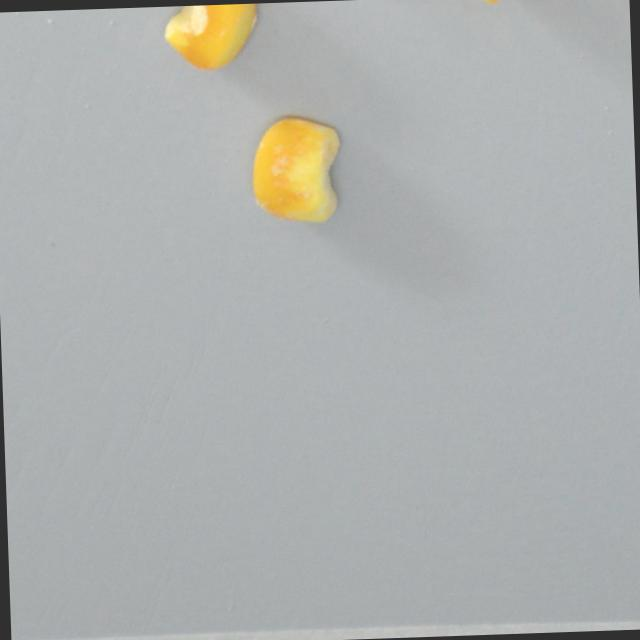no_canjicado: (249, 114, 344, 227)
pelicula: (162, 2, 262, 72)
